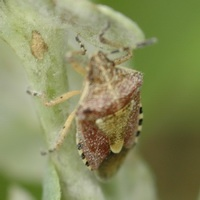insect: (27, 31, 142, 169), (49, 51, 142, 169)
